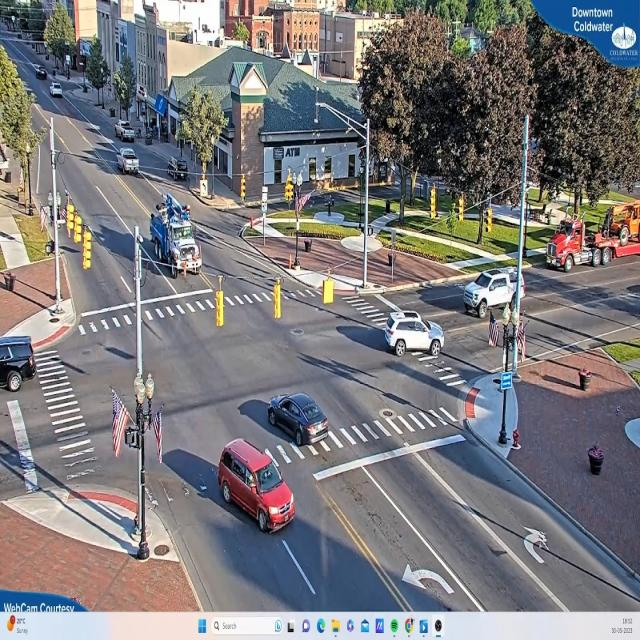car: (217, 439, 297, 536), (266, 393, 330, 447), (464, 270, 524, 316), (388, 313, 444, 356), (120, 151, 140, 174), (117, 121, 137, 143), (51, 84, 64, 98), (38, 67, 49, 78)
truck: (544, 197, 640, 273), (145, 194, 209, 277)
